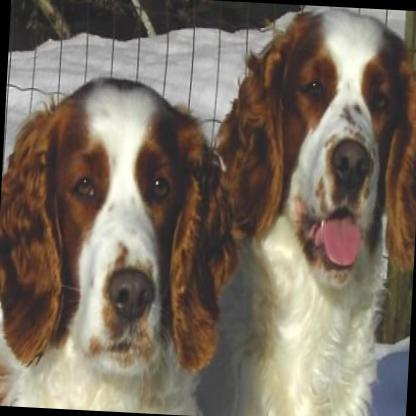Welsh_springer_spaniel: (194, 0, 416, 416), (0, 67, 238, 414)
